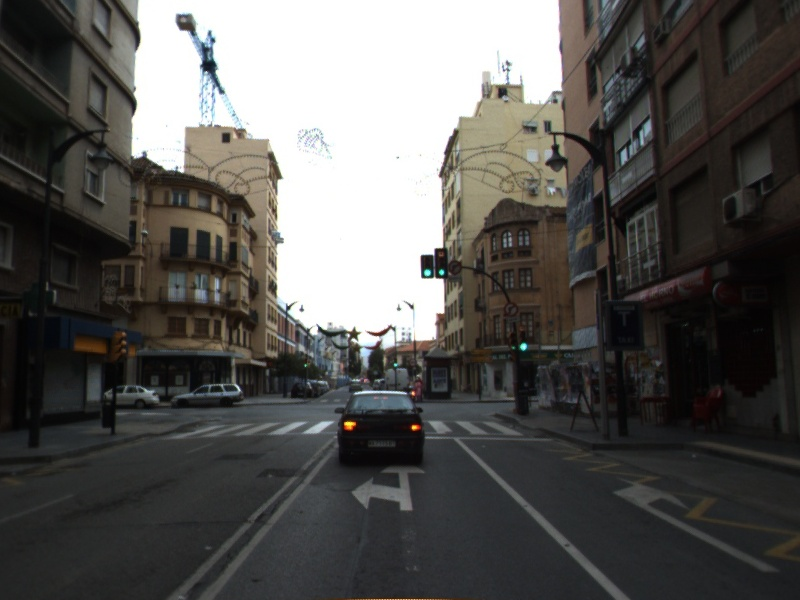RIGHT: (609, 474, 783, 575)
STRAIGHT_LEFT: (350, 463, 427, 512)
